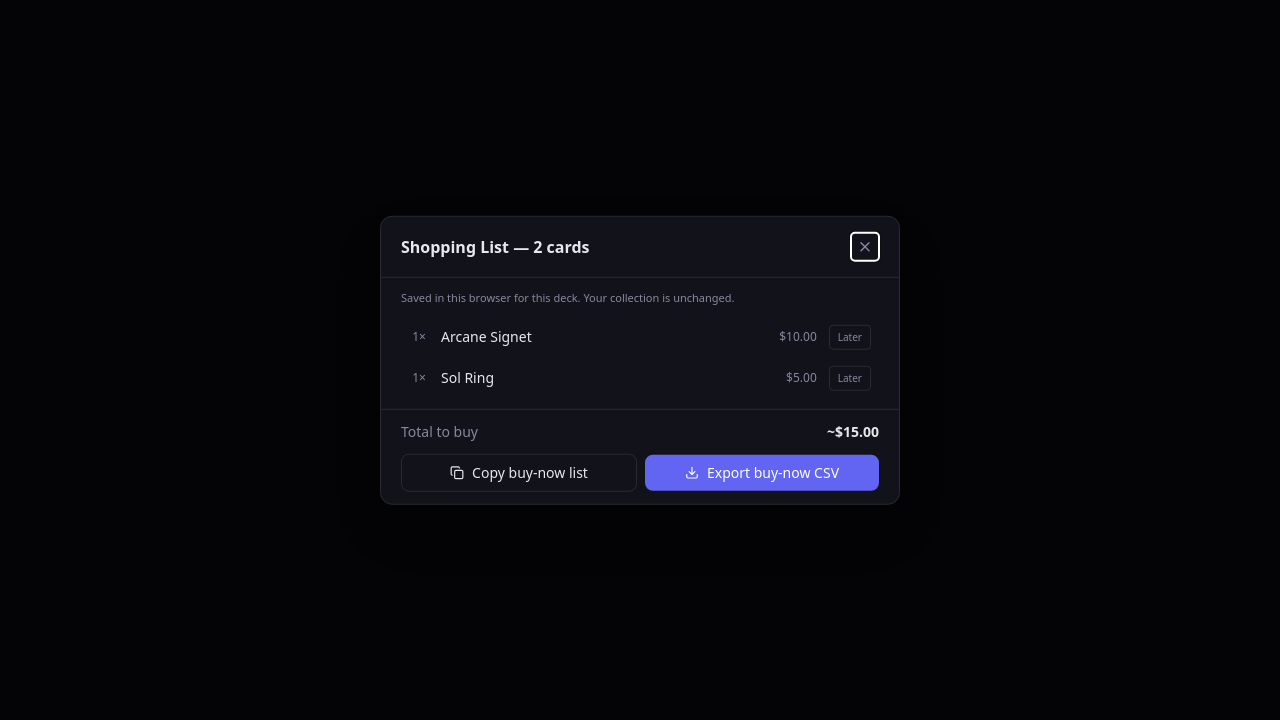
Test: ShoppingListModal › excludes deferred cards from the buy-now total without changing the deck
Click the button with aria-label "Buy later: Sol Ring".
click(850, 378)  # box [829,365,871,390]
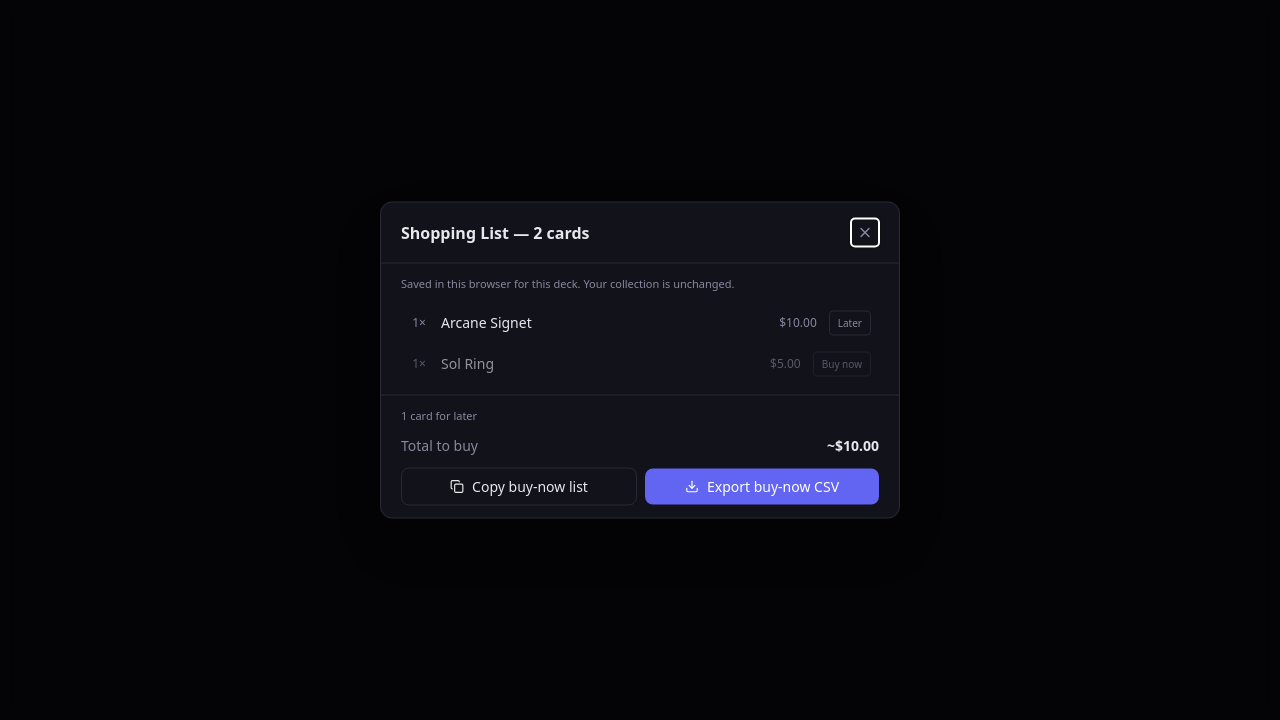
Expected: the button "Copy buy-now list" is enabled, [401,468,637,506]
Result: the text "~$10.00" is shown at [827,436,879,456]
Result: the text "$15.00" is gone
